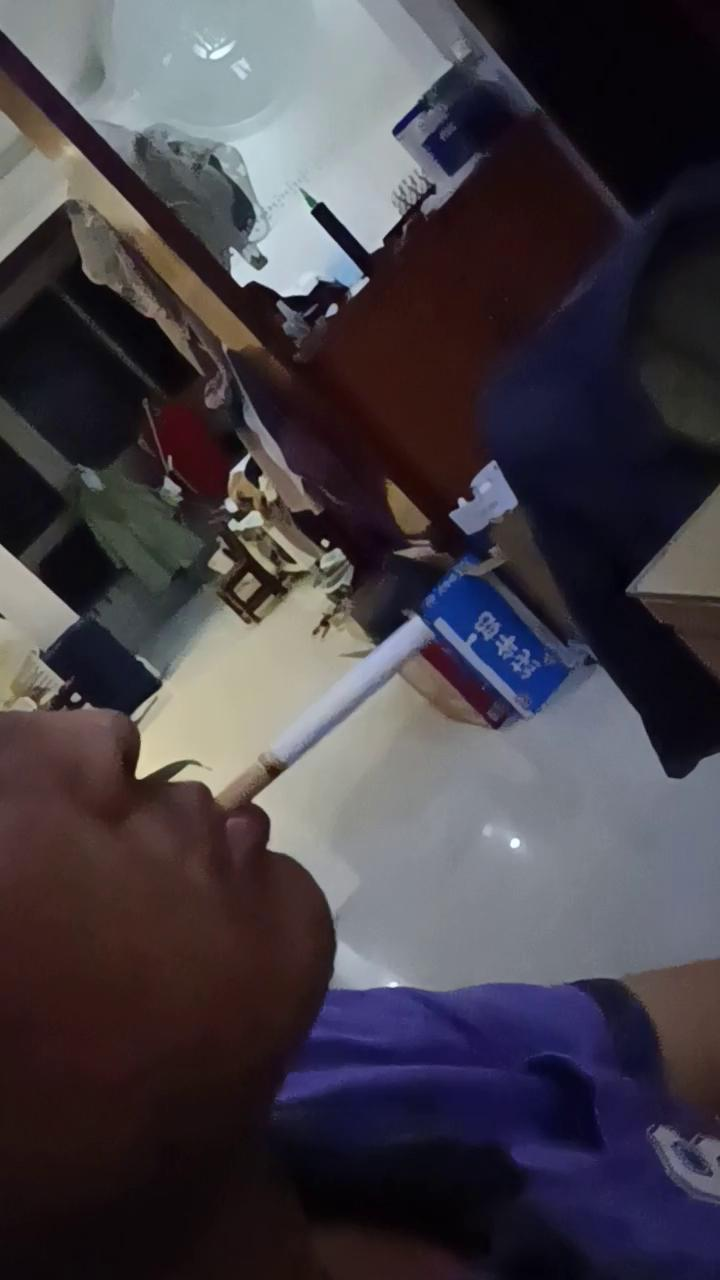smoke: (212, 612, 443, 820)
